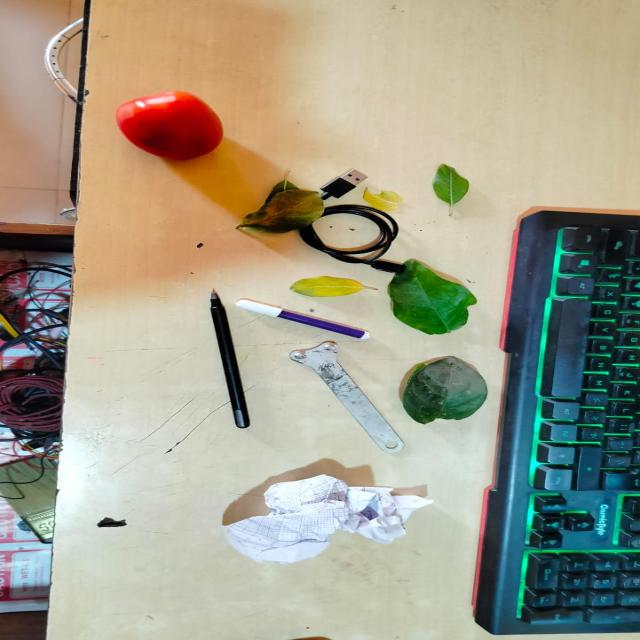Leaves: (391, 261, 478, 336), (405, 358, 488, 422), (241, 184, 320, 228), (288, 275, 390, 303), (429, 164, 473, 210), (352, 186, 410, 216)
Metal: (291, 344, 406, 458)
Paper: (225, 476, 400, 546)
Pen: (207, 292, 250, 432), (236, 300, 368, 342)
tomato: (114, 91, 225, 166)
